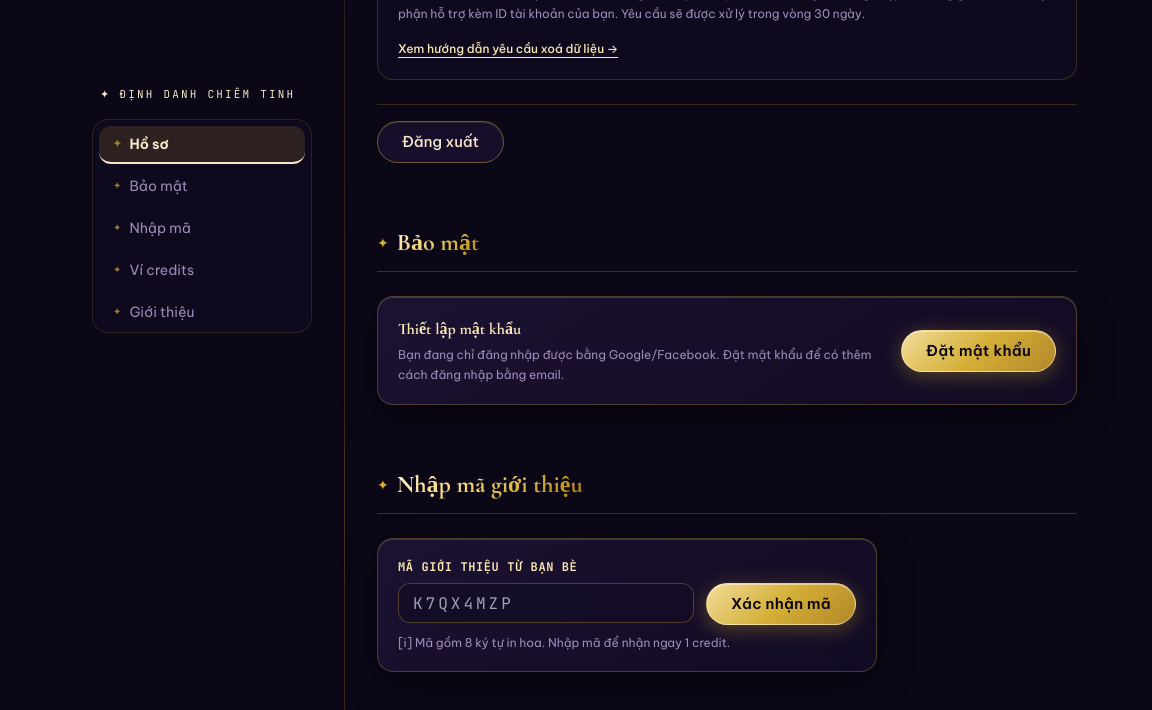
Test: Account Page › Bảo mật Section (#bao-mat) › should email a set-password link to a user without password when clicking 'Đặt mật khẩu'
The width and height of the screenshot is (1152, 710).
(page scrolled)
Click the button "Đặt mật khẩu". click: click(979, 350)
box: x1=901 y1=330 x2=1056 y2=372
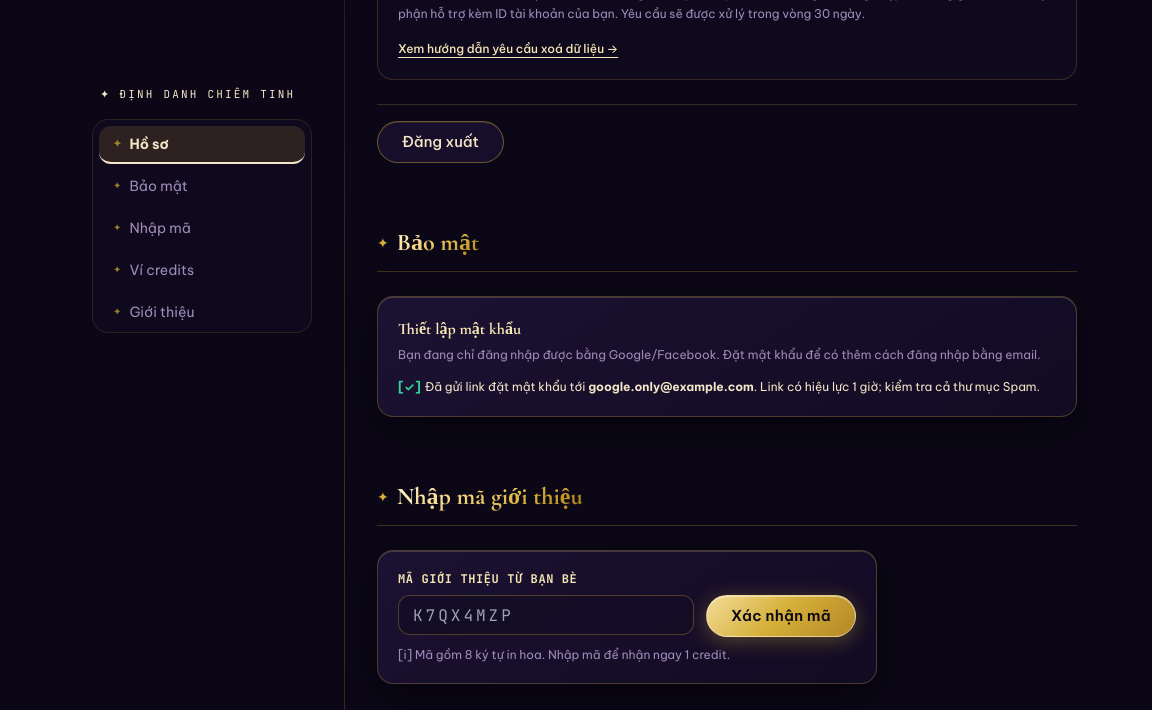
Result: the message shows "Đã gửi link đặt mật khẩu tới google.only@example.com" at x1=398 y1=376 x2=1056 y2=396
